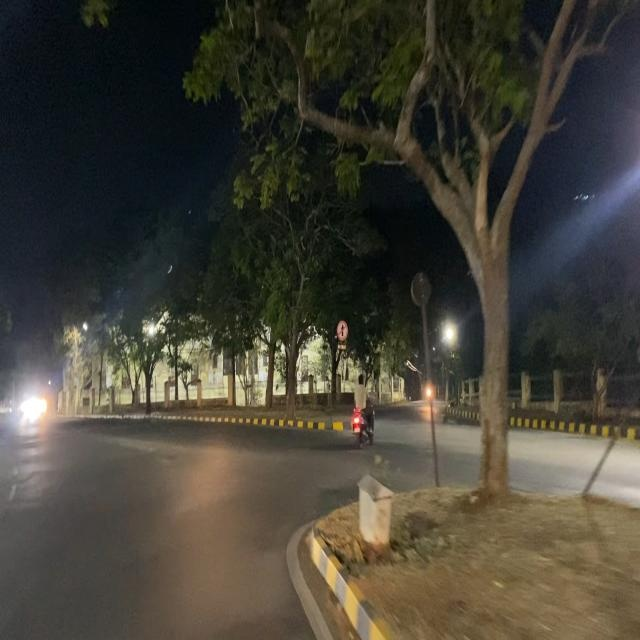bien_cam: (336, 318, 349, 343)
